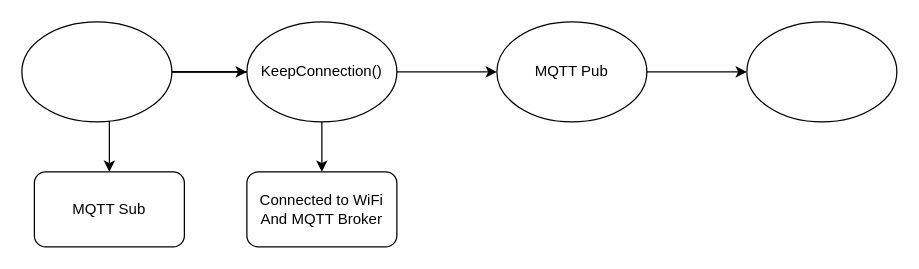
This 919x269 diagram has some shape labels left out. The shapes that lost their labels are listed below. From the top down, each one's centre as x and y in pixels, then its label:
At (96,71): "MQTTClinet.loop()".
At (821,71): "CheckSensorData()".
